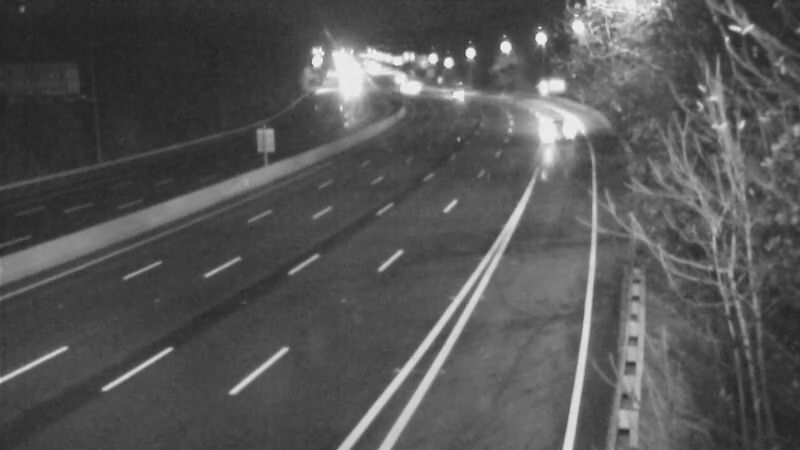vehicle: (374, 56, 424, 106), (430, 71, 480, 121), (526, 101, 576, 151)
